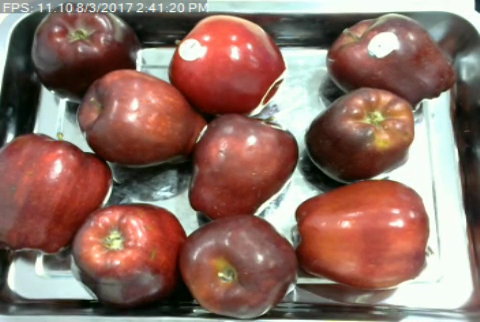Apple: (292, 175, 431, 290), (0, 129, 113, 257), (174, 210, 300, 322), (164, 12, 290, 120), (322, 10, 458, 110), (70, 199, 190, 311), (77, 65, 204, 168), (186, 109, 301, 222), (28, 2, 140, 106), (304, 85, 417, 185)
